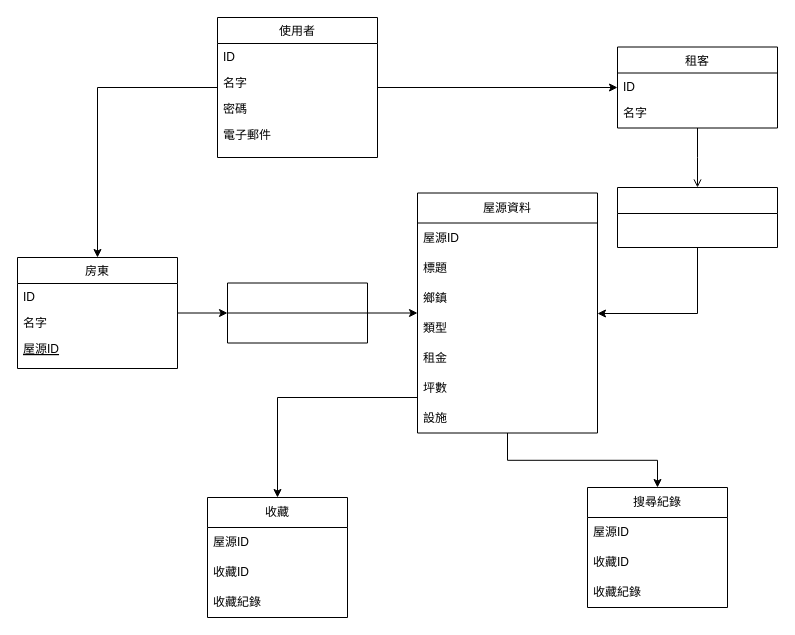
Some shapes in this 795 by 635 pixel diagram are drawn without their labels. The centre of each missing label's shape, as x and y in pixels:
"刊登" goes at (297,312).
"搜尋" goes at (697,217).
